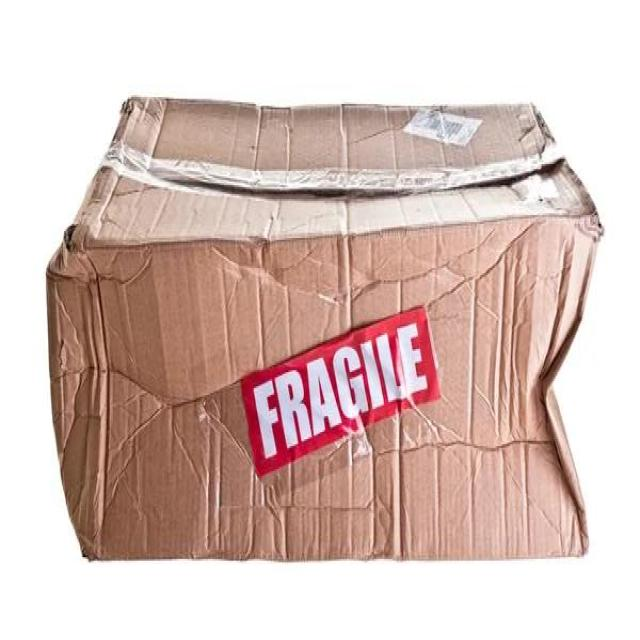Garbage: (36, 84, 608, 579)
